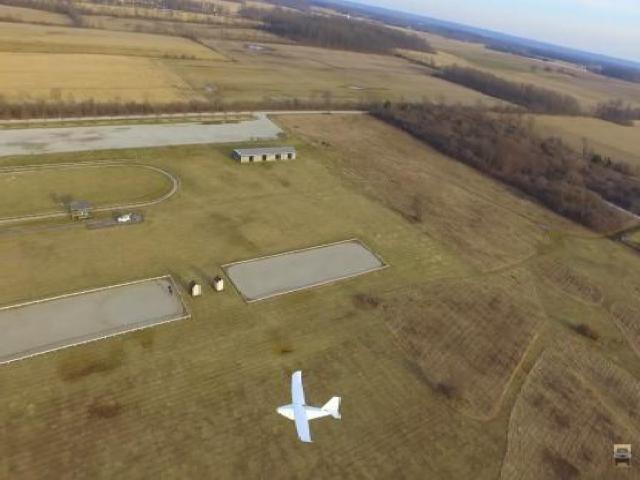uav: (266, 361, 346, 454)
